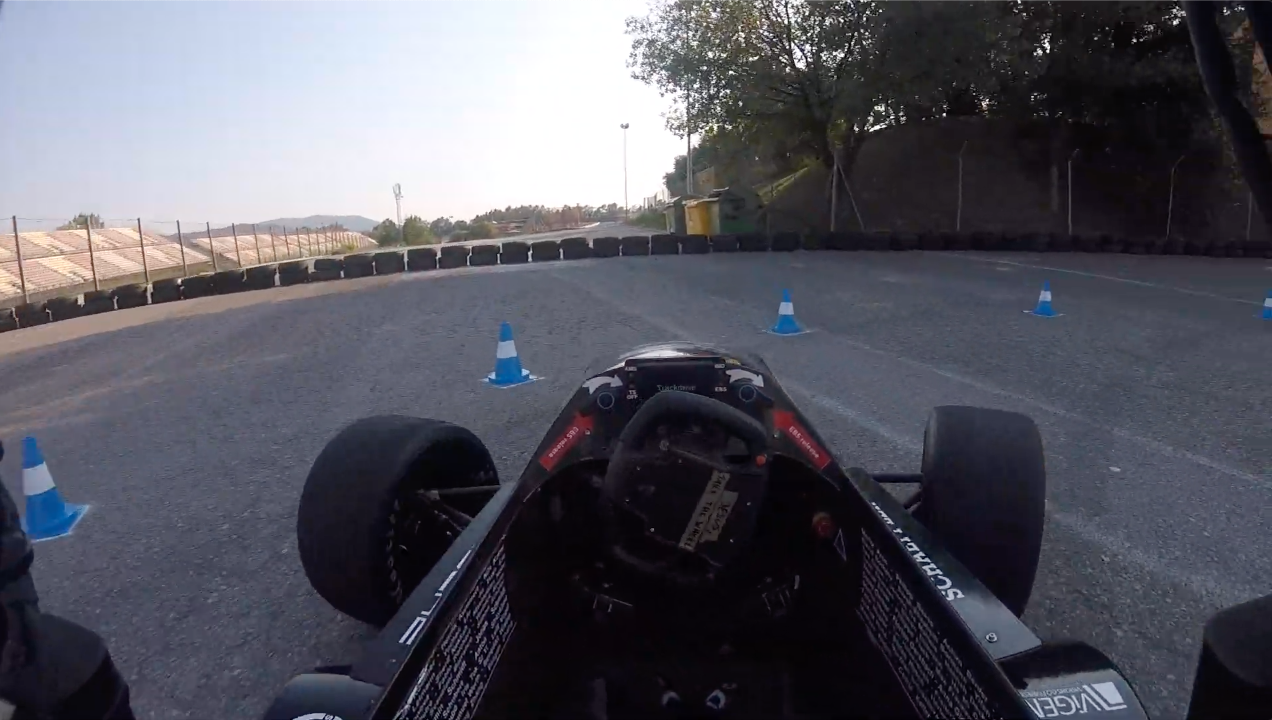lcone: (1, 431, 95, 544), (478, 316, 543, 392), (765, 284, 810, 337), (1026, 275, 1066, 323)
